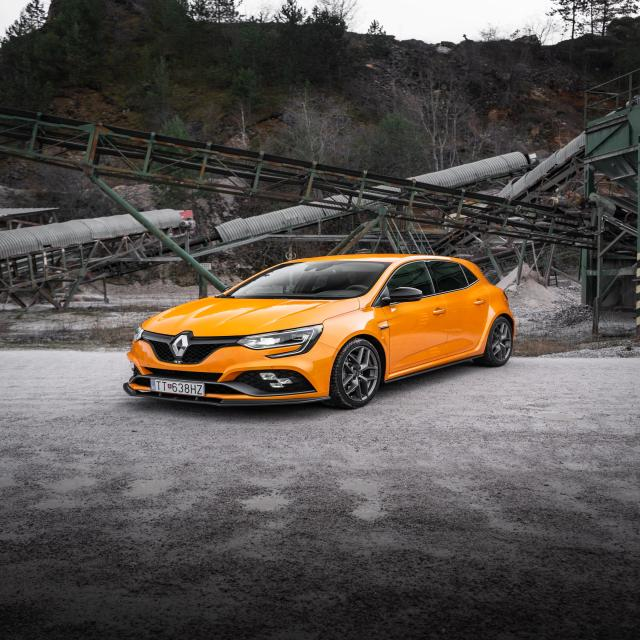car: (124, 252, 517, 412)
